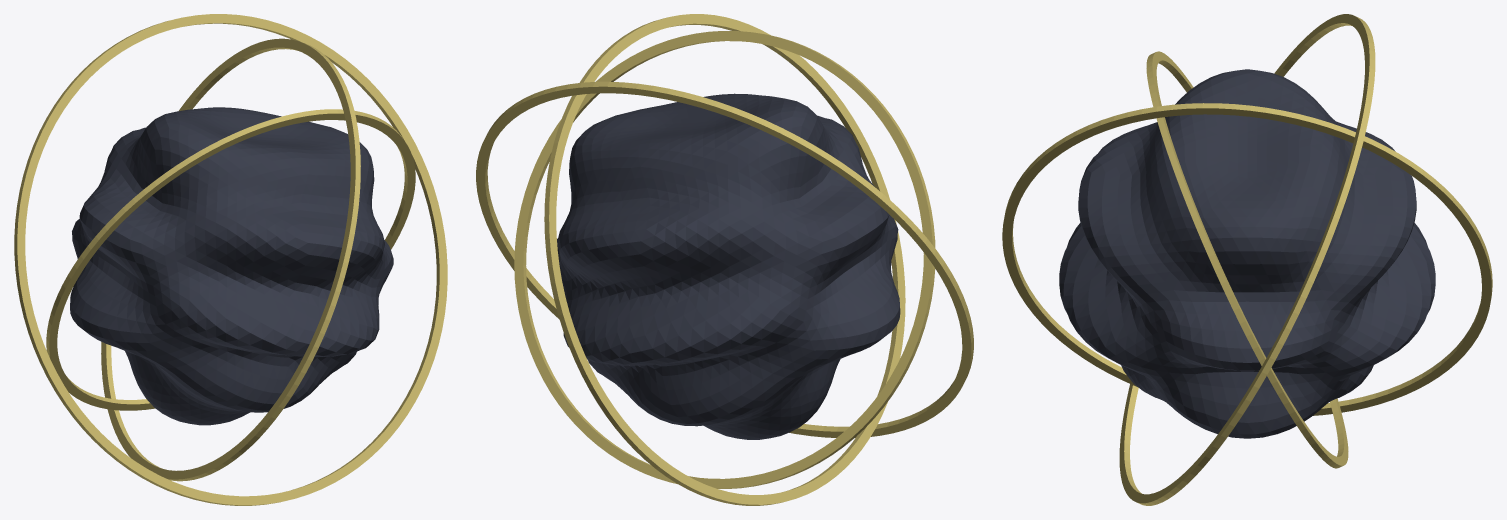
The model's file is gpu-artifact.glb.
3 renders of one model, left to right at view 1: azimuth 30°, elevation 25°; view 2: azimuth 150°, elevation 25°; view 3: azimuth 270°, elevation 25°, orthographic. The views are drawn at different scales.
Visible parts, largest first — view 1: promptmaster-studio_obsidian_core, promptmaster-studio_orbital_ring_2, promptmaster-studio_orbital_ring_1, promptmaster-studio_orbital_ring_0; view 2: promptmaster-studio_obsidian_core, promptmaster-studio_orbital_ring_0, promptmaster-studio_orbital_ring_1, promptmaster-studio_orbital_ring_2; view 3: promptmaster-studio_obsidian_core, promptmaster-studio_orbital_ring_1, promptmaster-studio_orbital_ring_2, promptmaster-studio_orbital_ring_0.
Part boxes in pixels (x1=…): promptmaster-studio_obsidian_core: x1=70, y1=107, x2=393, y2=425; promptmaster-studio_orbital_ring_2: x1=14, y1=14, x2=447, y2=505; promptmaster-studio_orbital_ring_1: x1=101, y1=38, x2=360, y2=481; promptmaster-studio_orbital_ring_0: x1=46, y1=109, x2=415, y2=410; promptmaster-studio_obsidian_core: x1=557, y1=93, x2=900, y2=439; promptmaster-studio_orbital_ring_0: x1=514, y1=31, x2=935, y2=488; promptmaster-studio_orbital_ring_1: x1=544, y1=14, x2=905, y2=505; promptmaster-studio_orbital_ring_2: x1=476, y1=81, x2=973, y2=437; promptmaster-studio_obsidian_core: x1=1059, y1=69, x2=1435, y2=438; promptmaster-studio_orbital_ring_1: x1=1002, y1=103, x2=1492, y2=415; promptmaster-studio_orbital_ring_2: x1=1119, y1=14, x2=1375, y2=505; promptmaster-studio_orbital_ring_0: x1=1146, y1=51, x2=1348, y2=468.
Bounding box in the file's own units: 3.24 × 2.89 × 2.98.
